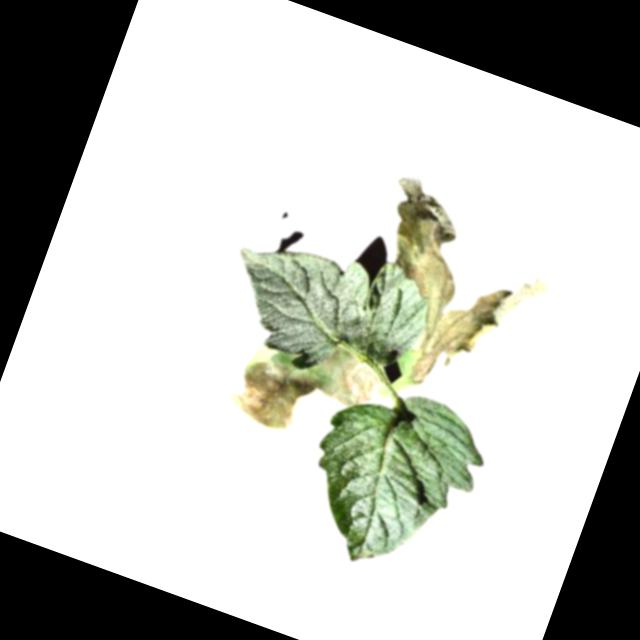Late_blight: (330, 170, 569, 421), (221, 315, 390, 460)
